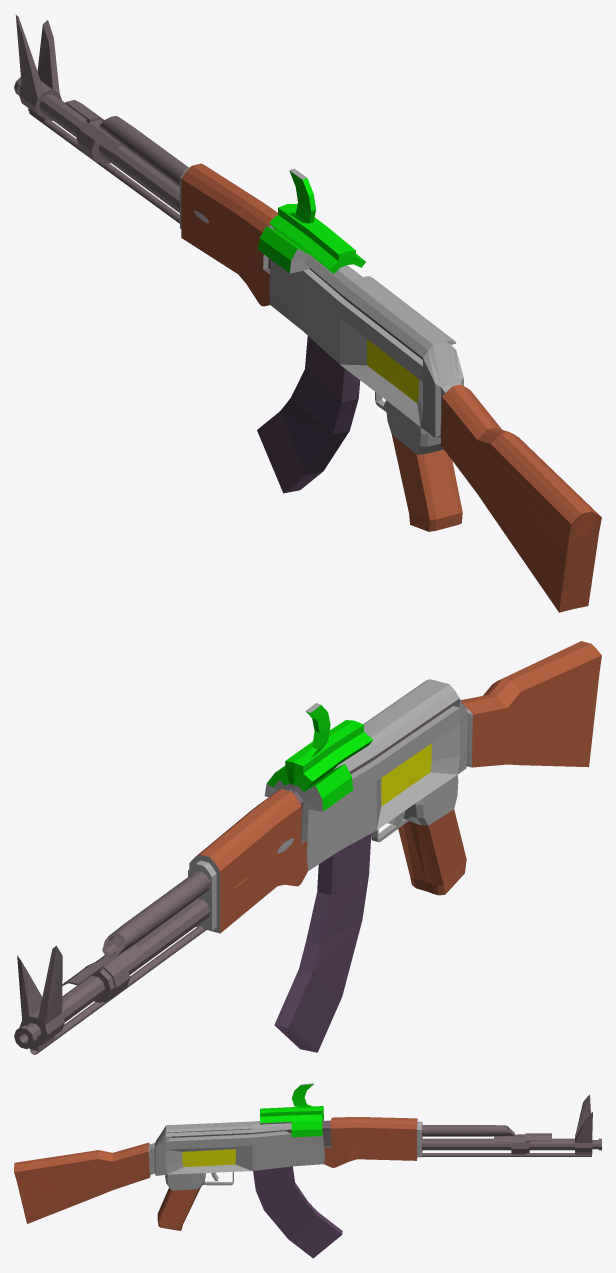
Rendered from kalachnikov.fbx.
The picture shows the model from 3 angles, top to bottom: view 1: azimuth 30°, elevation 25°; view 2: azimuth 150°, elevation 25°; view 3: azimuth 270°, elevation 25°; orthographic projection. The views are drawn at different scales.
Parts seen in each view (by area): view 1: pCube1, pCylinder2, pCylinder1, pCylinder3; view 2: pCube1, pCylinder2, pCylinder1, pCylinder3; view 3: pCube1, pCylinder2, pCylinder1, pCylinder3.
Part boxes in pixels (x1,y1,x2,y2): pCube1: (180, 163, 601, 612); pCylinder2: (14, 14, 209, 223); pCylinder1: (99, 116, 187, 187); pCylinder3: (29, 112, 179, 223); pCube1: (188, 641, 601, 1052); pCylinder2: (14, 898, 210, 1050); pCylinder1: (102, 871, 209, 957); pCylinder3: (30, 926, 206, 1054); pCube1: (14, 1083, 422, 1258); pCylinder2: (422, 1094, 601, 1154); pCylinder1: (422, 1125, 515, 1136); pCylinder3: (422, 1153, 591, 1156).
Size of the model in its own units: 30.62 by 164 by 505.
